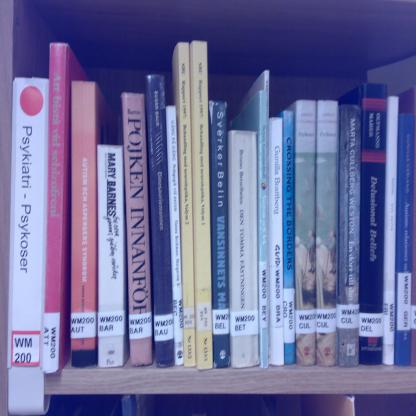book: (339, 83, 416, 369), (40, 38, 88, 380), (6, 75, 46, 416), (230, 88, 270, 372), (145, 70, 175, 370), (120, 92, 152, 367), (70, 80, 99, 371), (188, 41, 212, 369), (228, 127, 259, 366), (171, 42, 193, 366), (291, 99, 316, 367), (98, 143, 127, 368), (207, 98, 230, 368), (315, 99, 336, 367), (166, 101, 186, 368), (255, 69, 271, 358), (280, 111, 296, 365), (268, 116, 284, 367)
